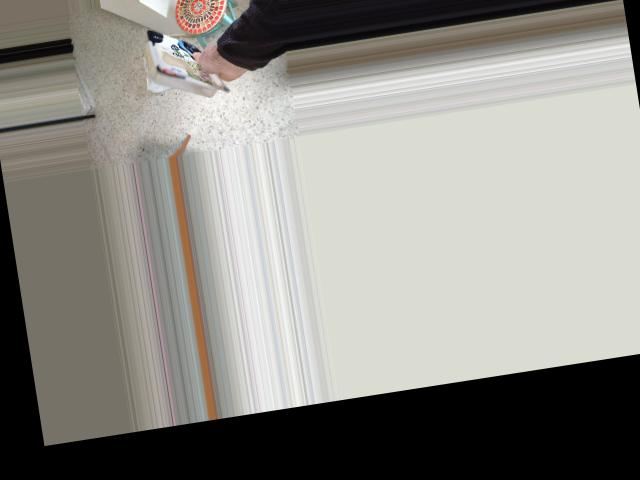cheese: (135, 3, 249, 115)
